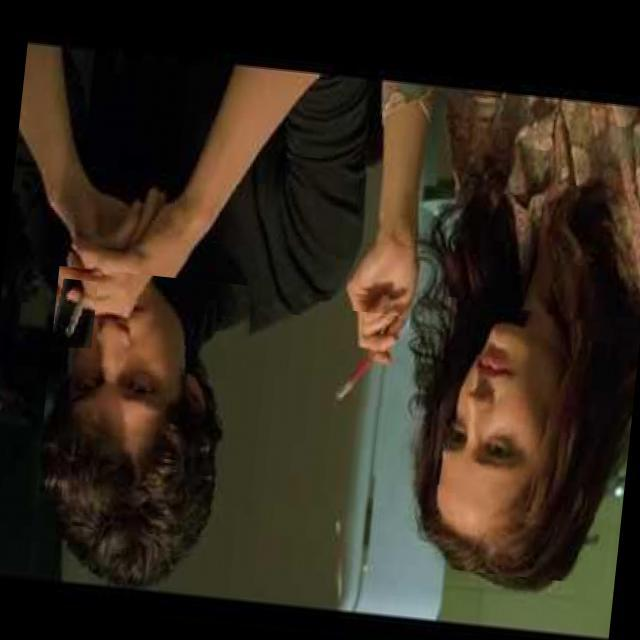cigarette: (316, 309, 410, 434), (48, 278, 98, 351)
